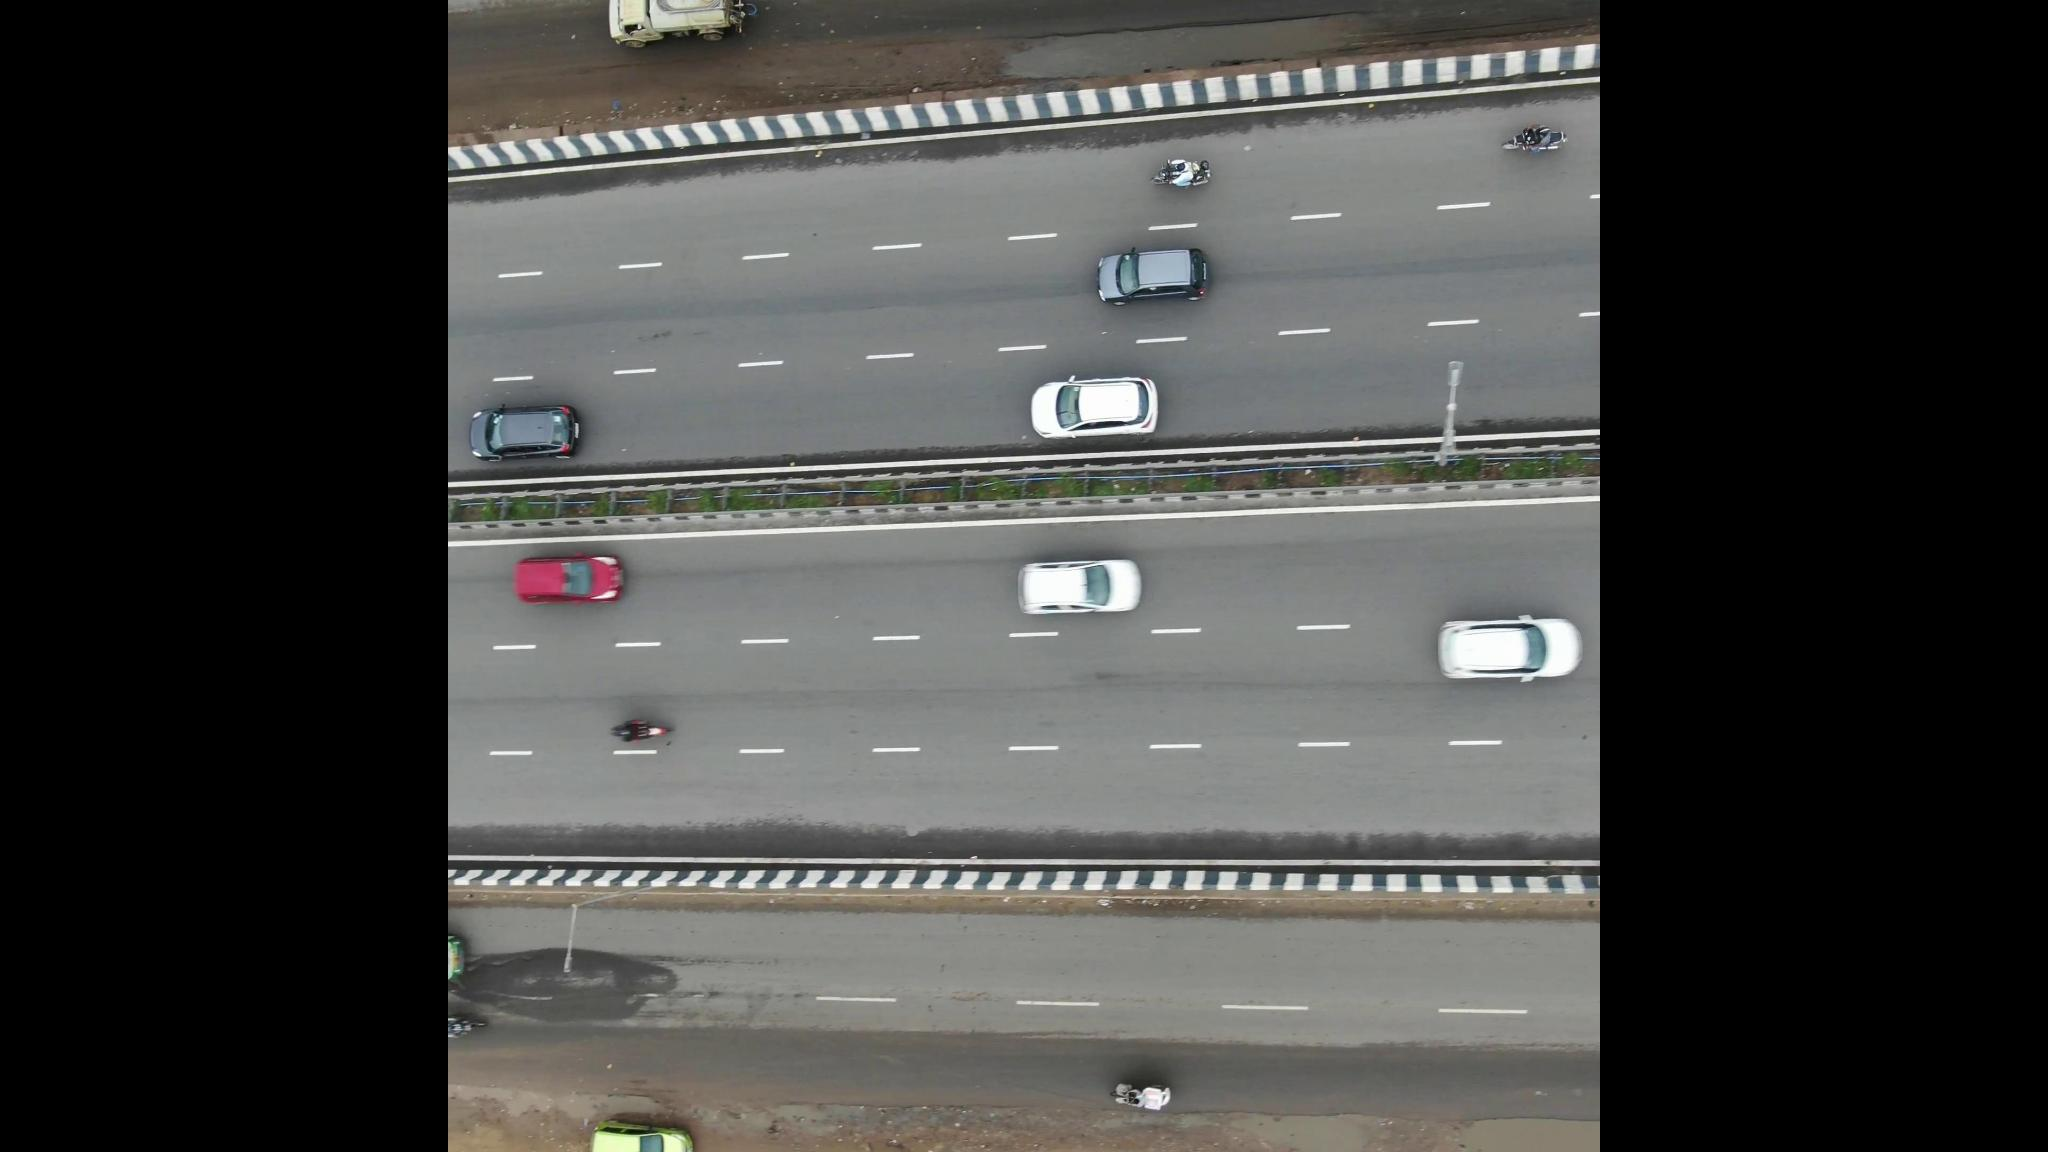Waterlogging: (1172, 6, 1363, 70), (989, 27, 1158, 83)
